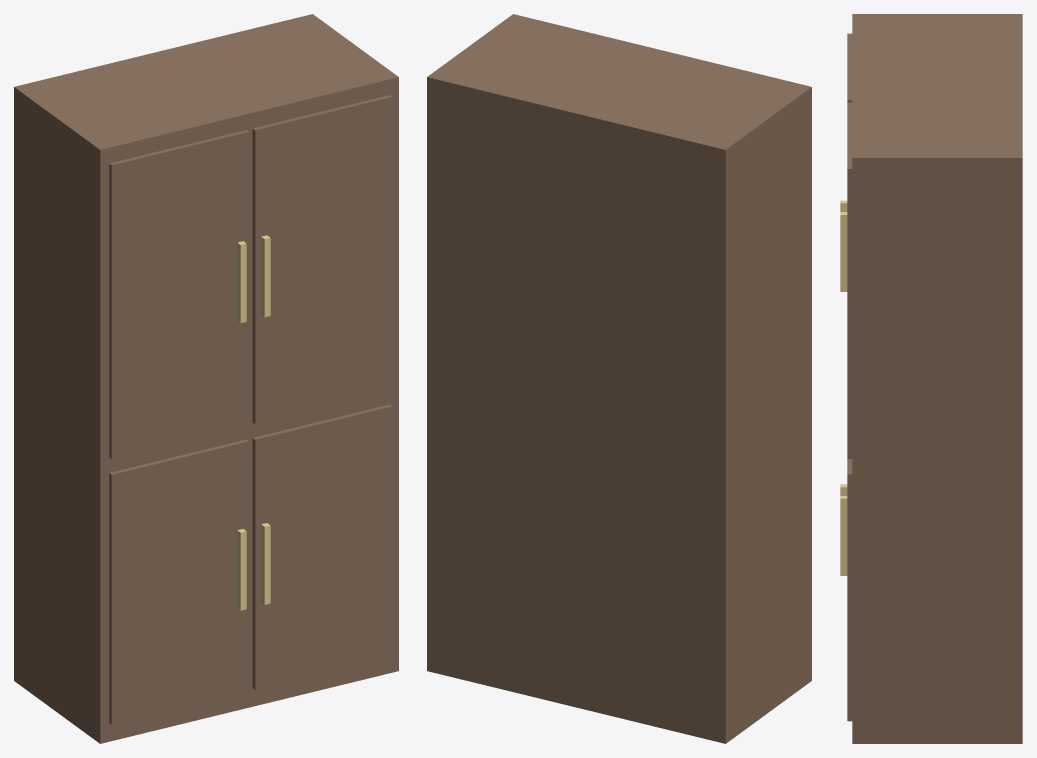
The model's file is CABINET001.glb.
3 views of the same model, side by side, from view 1: azimuth 30°, elevation 25°; view 2: azimuth 150°, elevation 25°; view 3: azimuth 270°, elevation 25° (orthographic).
Visible parts, largest first — view 1: FurnitureRoot; view 2: FurnitureRoot; view 3: FurnitureRoot.
Part boxes in pixels (left/top/right/bottom): FurnitureRoot: left=14, top=14, right=398, bottom=743; FurnitureRoot: left=427, top=14, right=811, bottom=743; FurnitureRoot: left=840, top=14, right=1022, bottom=743.
Bounding box in the file's own units: 100 × 190 × 53.5.
